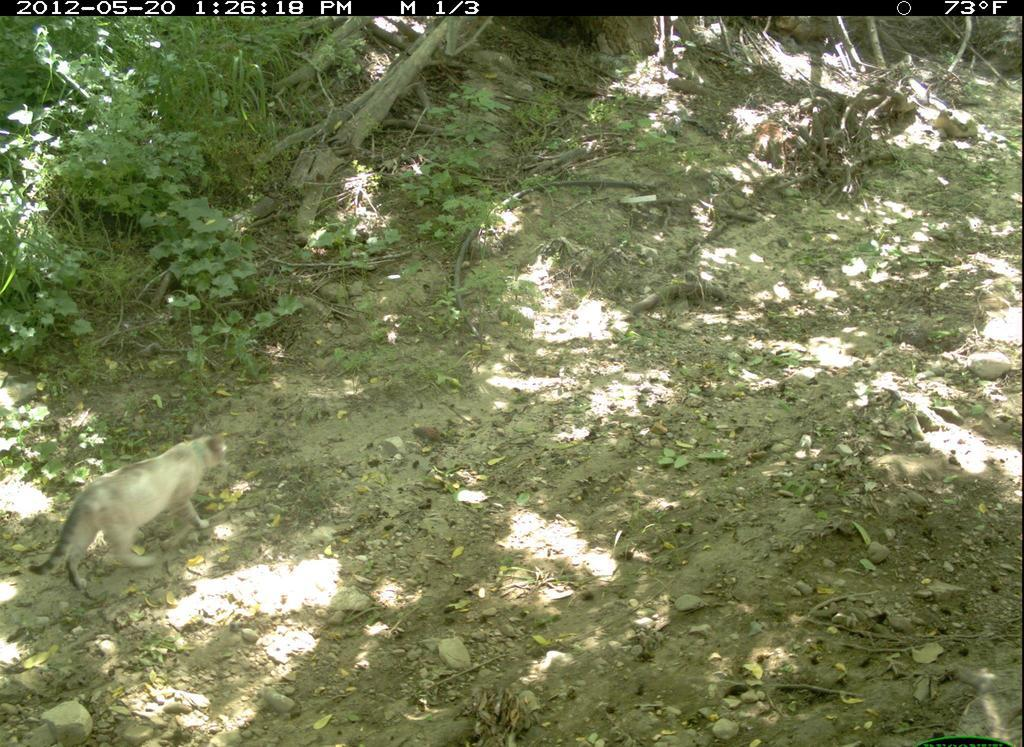cat: (27, 425, 241, 600)
